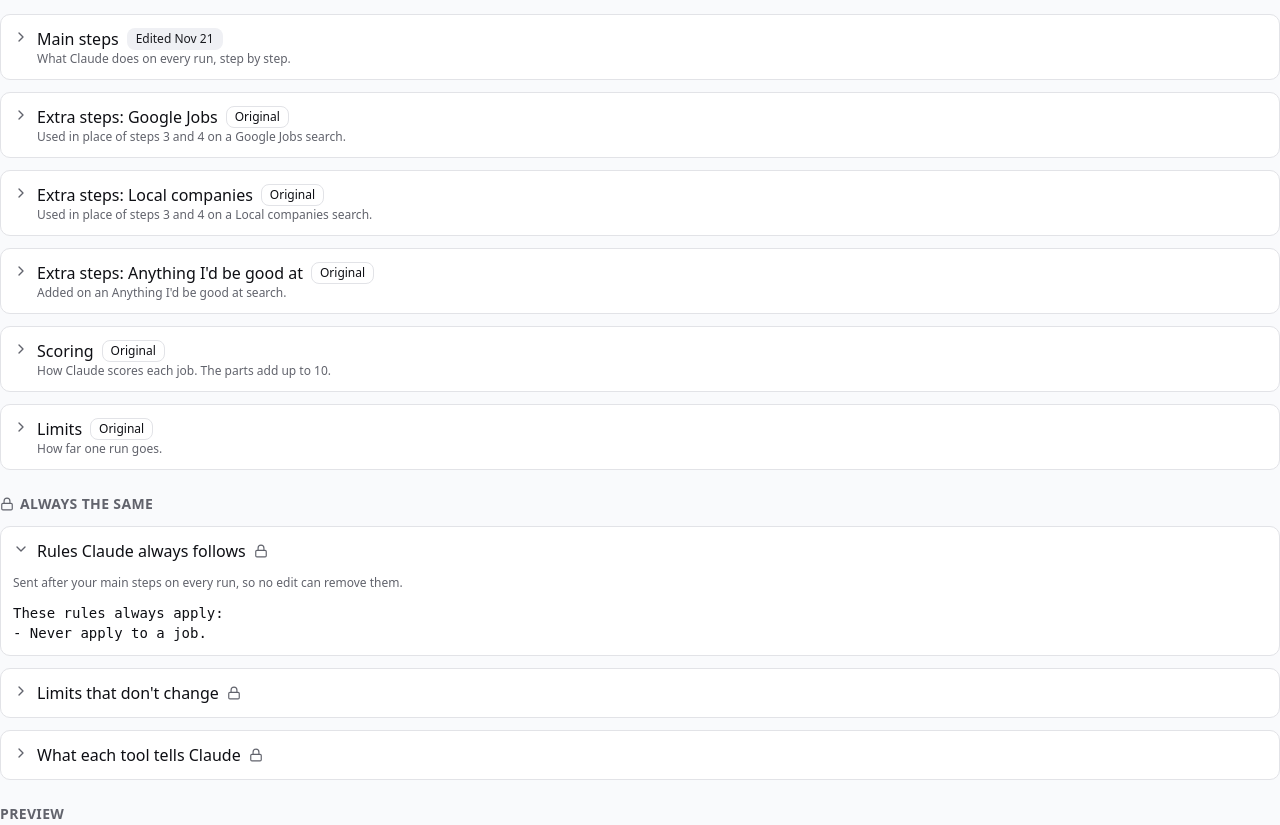
Test: Scout instructions › shows every part, marked original or edited, and the locked ones
(page scrolled)
Check: the button "Main steps" shows "Edited", box x1=1 y1=15 x2=1279 y2=79
Check: the button "Extra steps: Google Jobs" shows "Original", box x1=1 y1=93 x2=1279 y2=157
Click the button "What each tool tells Claude" at (139, 755), box x1=1 y1=731 x2=1279 y2=779
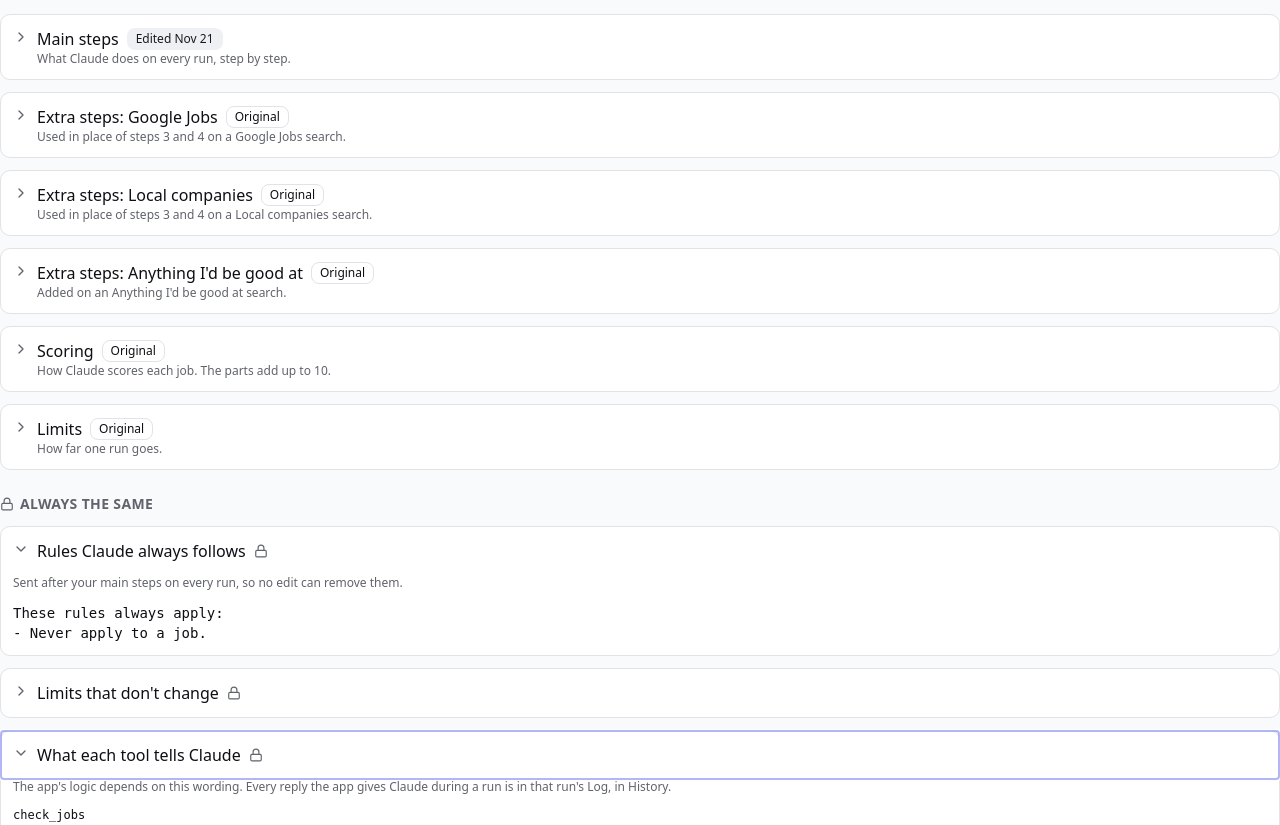
Check: the text "check_jobs" is shown, box x1=13 y1=808 x2=85 y2=822
